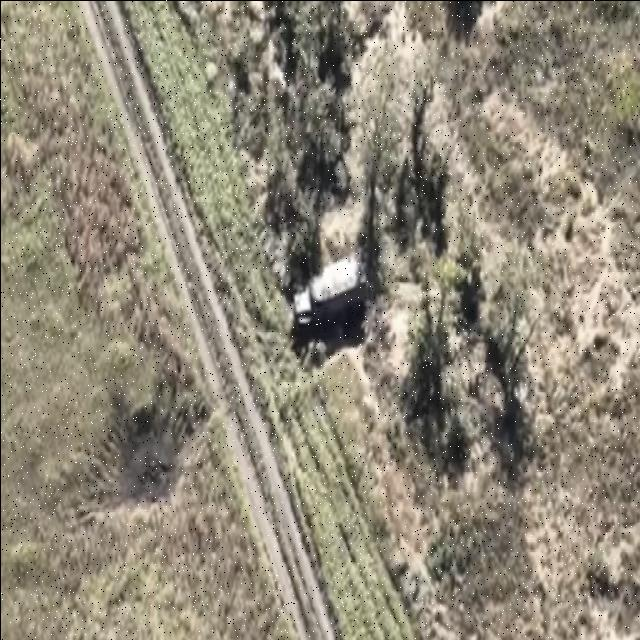TRUCK: (286, 244, 370, 338)
